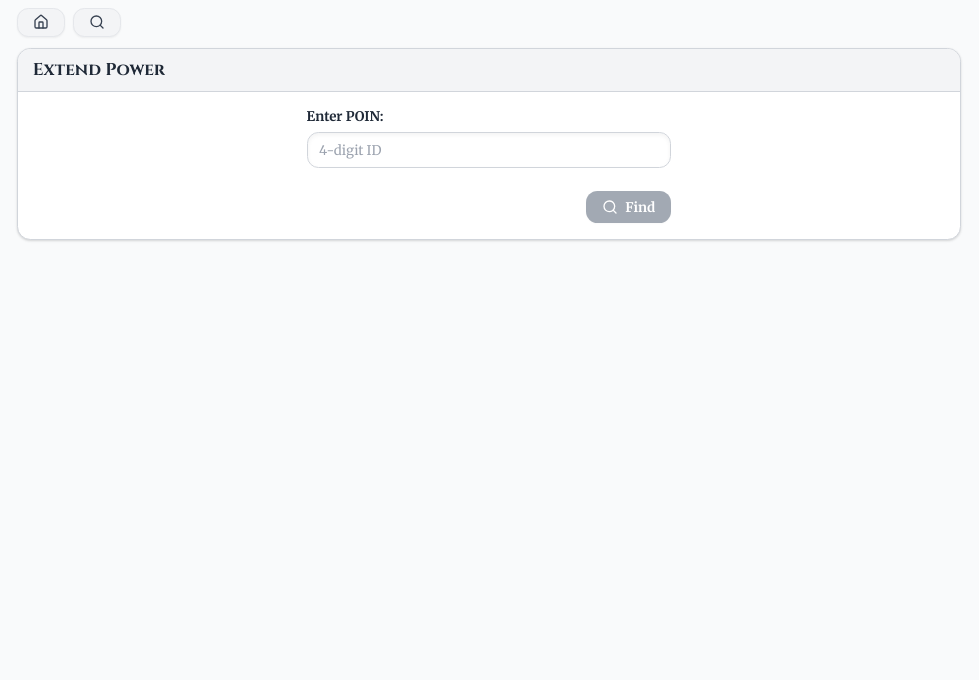
it: ExtendPower Page › validates invalid expiry date before updating
The image size is (979, 680).
# Load power
In the field with placeholder "4-digit ID": (489, 150) [307, 132, 671, 168], type "6001"
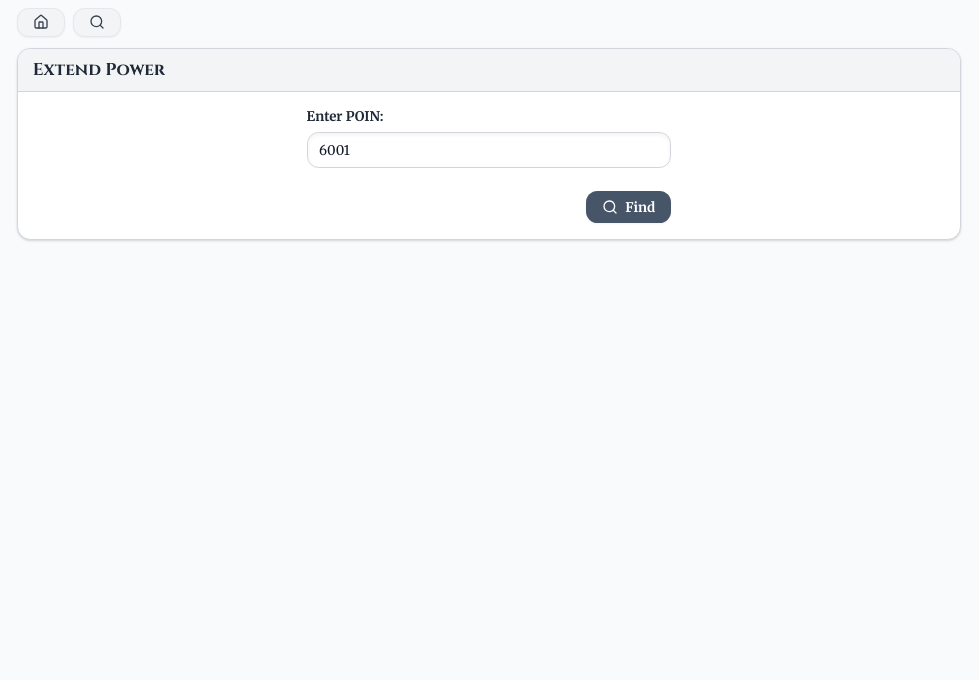
Click the button "Find": (628, 207) [586, 191, 671, 223]
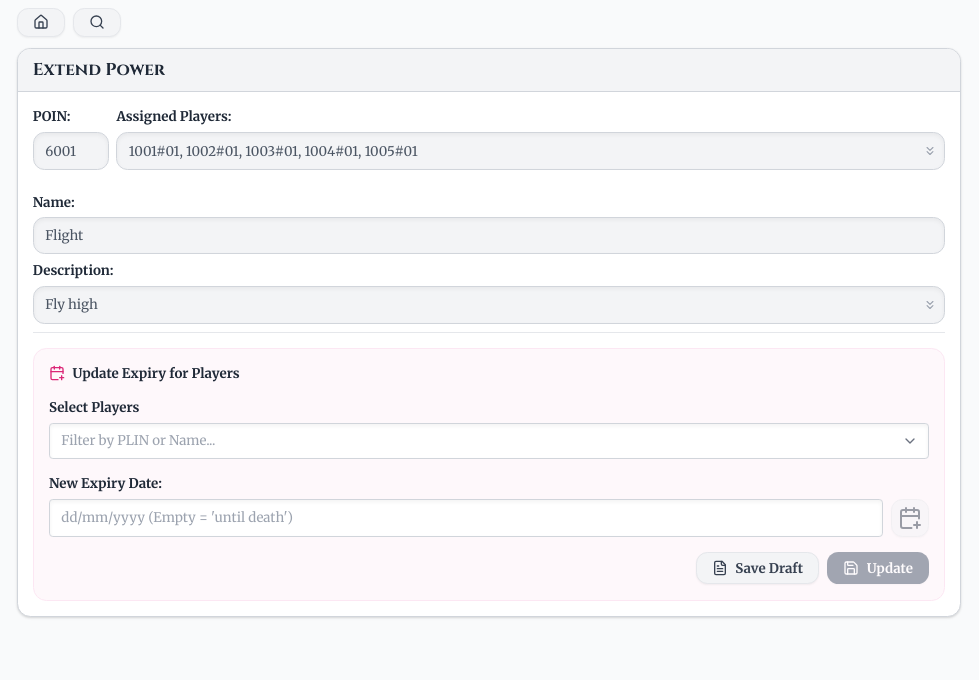
Expected: the field showing "Flight" below "Name" is shown, [33, 218, 945, 254]
# Select all players
Focus the field with placeholder "Filter by PLIN or Name...": (489, 441) [49, 423, 929, 459]
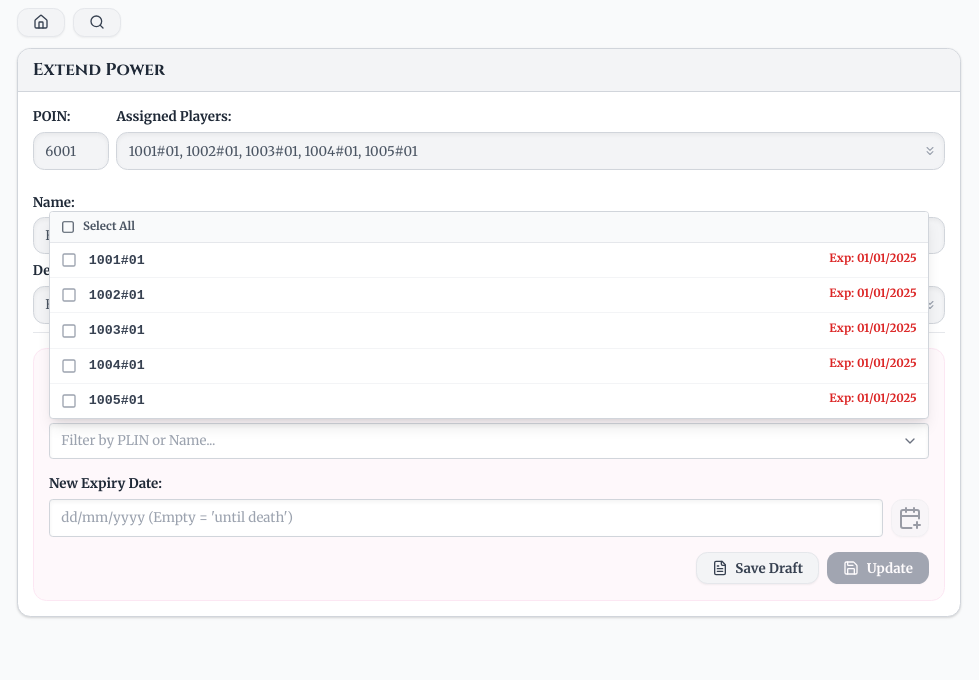
Click the text "Select All": (489, 227) [50, 212, 928, 243]
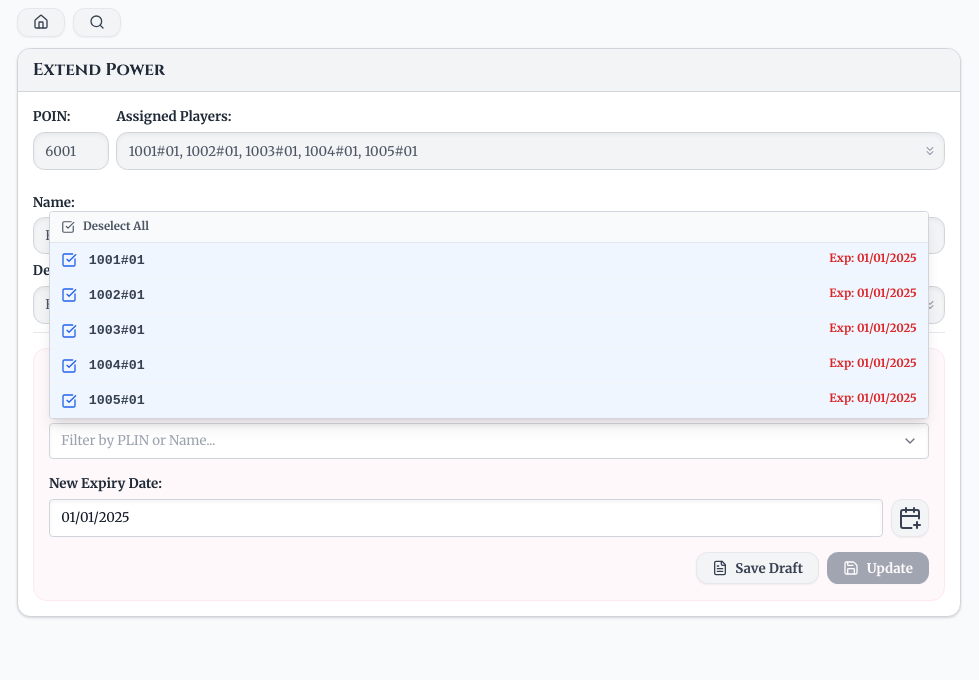
Replace the text in the field with placeholder "dd/mm/yyyy (Empty = 'until death')" below "New Expiry Date:" with "99/99/2022": (466, 518) [49, 499, 884, 537]
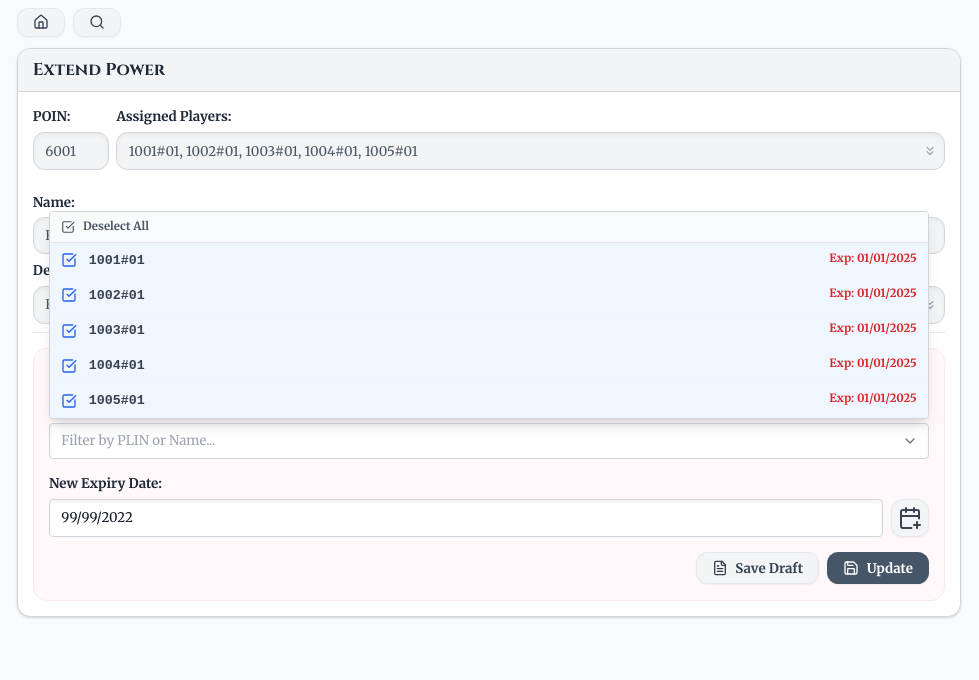
# Attempt update
Click the button "Update": (878, 568) [827, 552, 929, 584]
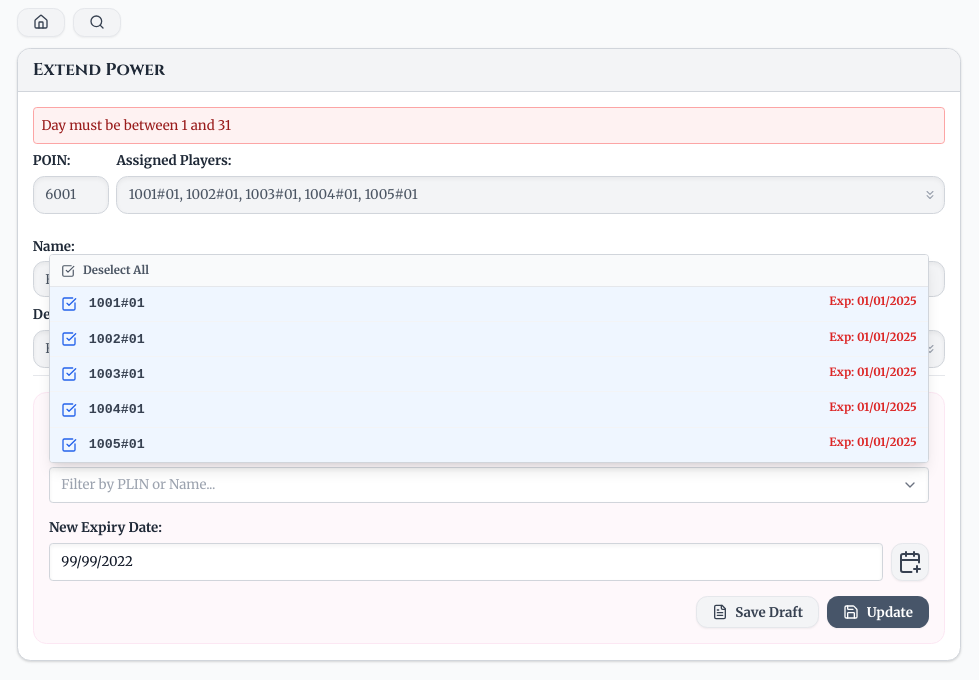
Expected: the text "Day must be between 1 and 31" is shown, [33, 107, 945, 144]
